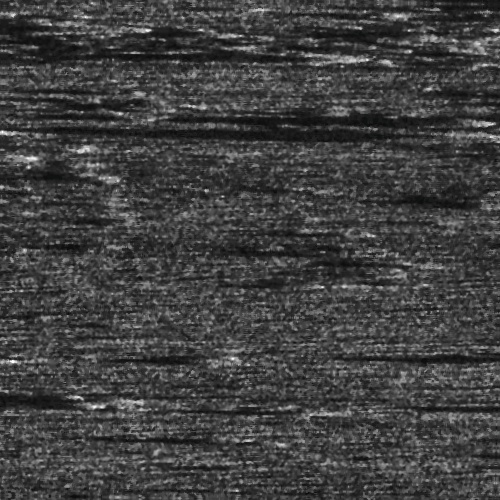object: (382, 124, 500, 141), (407, 111, 470, 120), (288, 49, 361, 56), (374, 255, 427, 260), (82, 25, 123, 30), (309, 227, 340, 230), (494, 353, 500, 356)
shadow: (164, 124, 470, 141), (203, 111, 439, 120), (30, 49, 324, 56), (365, 341, 500, 356), (329, 353, 500, 356), (0, 25, 102, 30), (322, 255, 401, 260), (377, 0, 500, 3), (284, 227, 324, 230)
